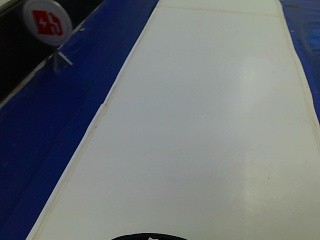battery: (21, 1, 71, 49)
